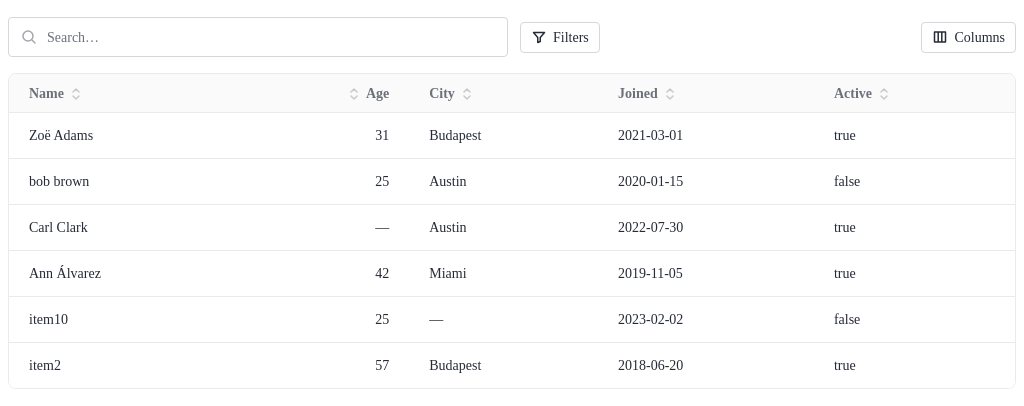
Test: global search › highlights matches when highlightSearchMatches is on (regex-safe)
The width and height of the screenshot is (1024, 406).
Type "bob" into the search field. click: (270, 37)
box: [45,26,495,48]
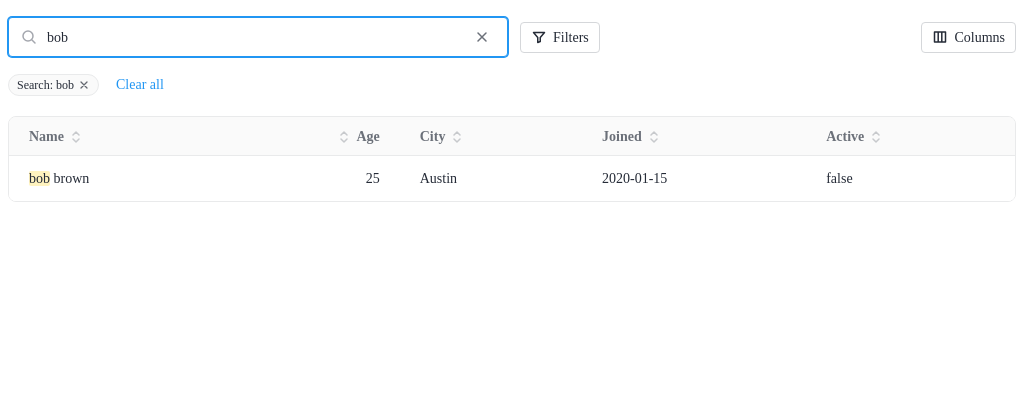
Expected: the text with class "tk-highlight" reads "bob", [29,171,50,186]
